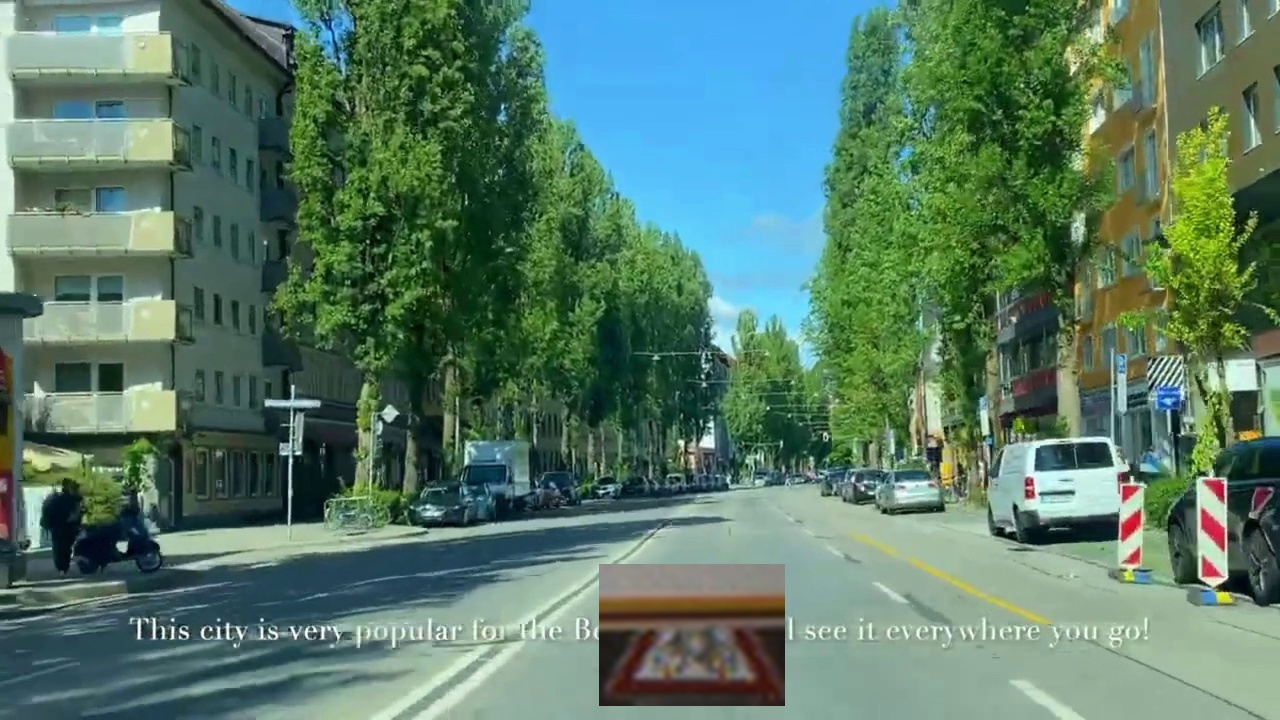Bicycles: (599, 564, 785, 706)
